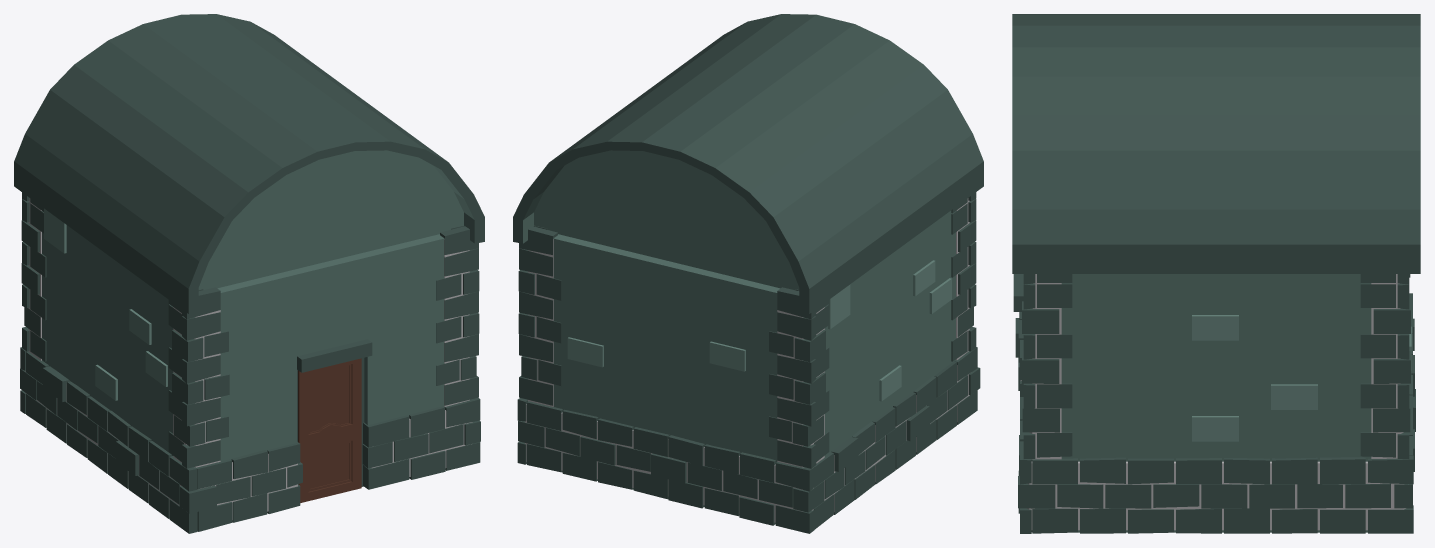
Rendered from quaternius-buildings-pack-3-1-story-round-roof-mat.glb.
3 renders of one model, left to right at view 1: azimuth 30°, elevation 25°; view 2: azimuth 150°, elevation 25°; view 3: azimuth 270°, elevation 25°, orthographic. The views are drawn at different scales.
Parts seen in each view (by area): view 1: 1Story_RoundRoof_Mat; view 2: 1Story_RoundRoof_Mat; view 3: 1Story_RoundRoof_Mat.
Boxes of the visible parts, x1=… form: 1Story_RoundRoof_Mat: x1=14, y1=14, x2=484, y2=533; 1Story_RoundRoof_Mat: x1=513, y1=14, x2=983, y2=533; 1Story_RoundRoof_Mat: x1=1012, y1=14, x2=1420, y2=533.
Bounding box in the file's own units: 2.09 × 2.38 × 2.13.
Materials: 1 (1 with a texture image).
